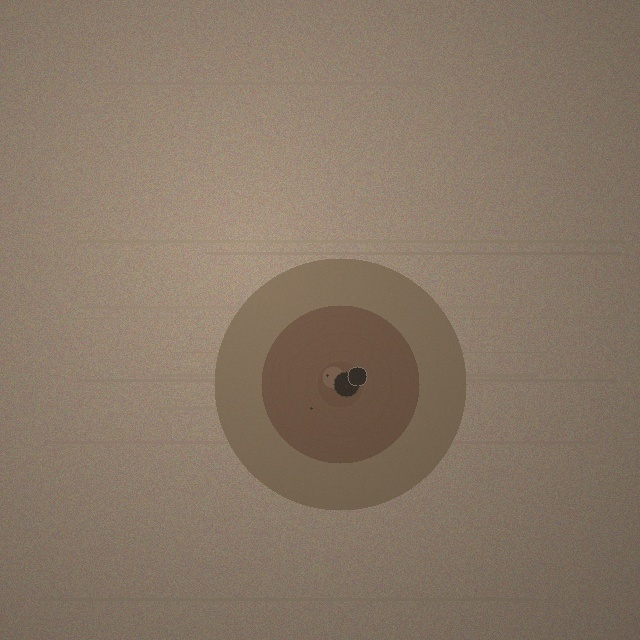shrinkage: (214, 258, 466, 510)
